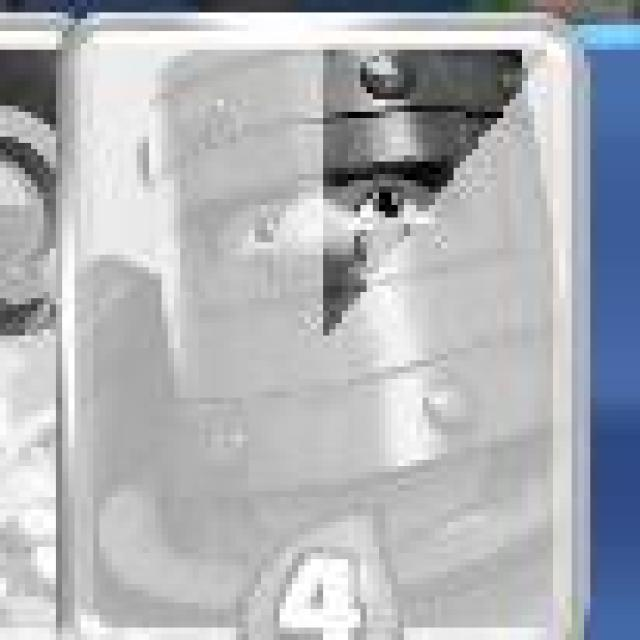Dark_Prince: (52, 4, 595, 640)
